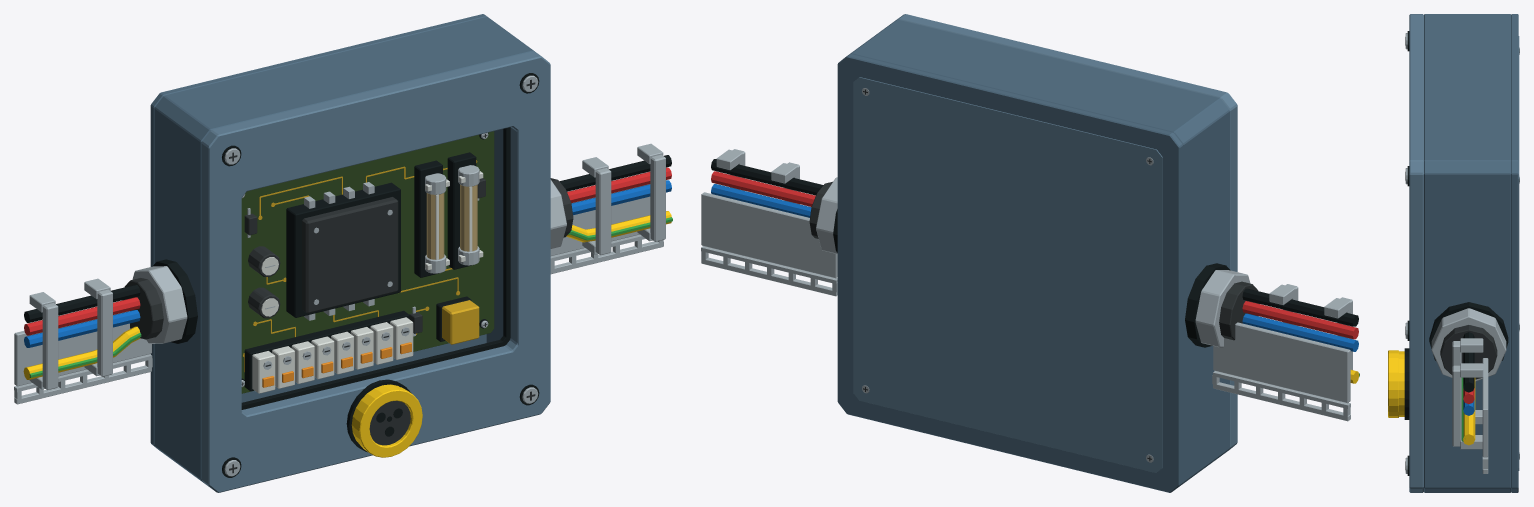
The model's file is circuit-box.fbx.
The picture shows the model from 3 angles, left to right: view 1: azimuth 30°, elevation 25°; view 2: azimuth 150°, elevation 25°; view 3: azimuth 270°, elevation 25°; orthographic projection. The views are drawn at different scales.
Visible parts, largest first — view 1: FrontFrame_Mesh, CircuitBoard_Mesh, Housing_Mesh, CableLeft_Mesh, CableRight_Mesh, ContactSocket_Mesh; view 2: Housing_Mesh, CableLeft_Mesh, CableRight_Mesh, FrontFrame_Mesh; view 3: Housing_Mesh, FrontFrame_Mesh, CableRight_Mesh, ContactSocket_Mesh.
Part boxes in pixels (left/top/right/bottom): FrontFrame_Mesh: left=201, top=51, right=550, bottom=492; CircuitBoard_Mesh: left=241, top=131, right=494, bottom=393; Housing_Mesh: left=150, top=14, right=534, bottom=486; CableLeft_Mesh: left=14, top=259, right=197, bottom=404; CableRight_Mesh: left=550, top=143, right=672, bottom=274; ContactSocket_Mesh: left=346, top=379, right=422, bottom=457; Housing_Mesh: left=837, top=19, right=1229, bottom=492; CableLeft_Mesh: left=1185, top=263, right=1359, bottom=421; CableRight_Mesh: left=701, top=149, right=837, bottom=296; FrontFrame_Mesh: left=897, top=14, right=1237, bottom=453; Housing_Mesh: left=1424, top=14, right=1519, bottom=492; FrontFrame_Mesh: left=1405, top=14, right=1423, bottom=492; CableRight_Mesh: left=1429, top=302, right=1508, bottom=473; ContactSocket_Mesh: left=1388, top=348, right=1409, bottom=419.
Bounding box in the file's own units: 0.756 × 0.4 × 0.1434.
